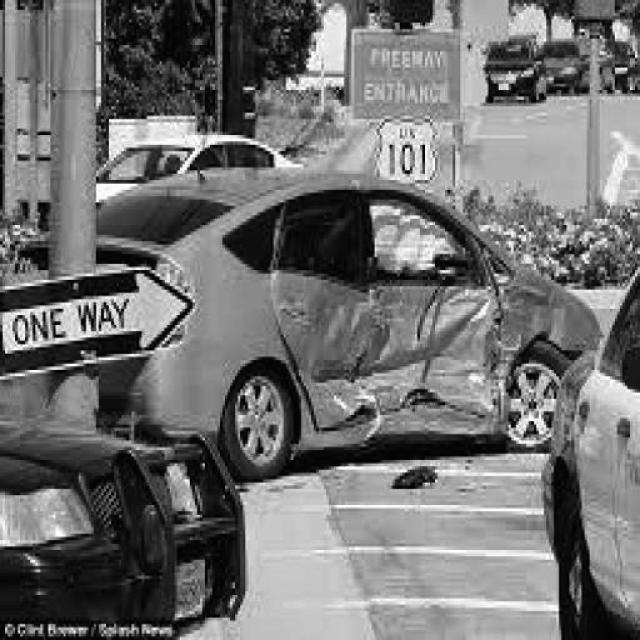car damage: (261, 179, 582, 449)
